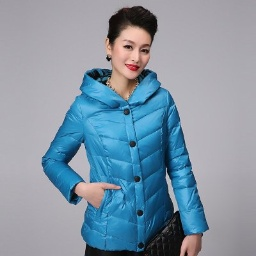face: (106, 7, 157, 81)
